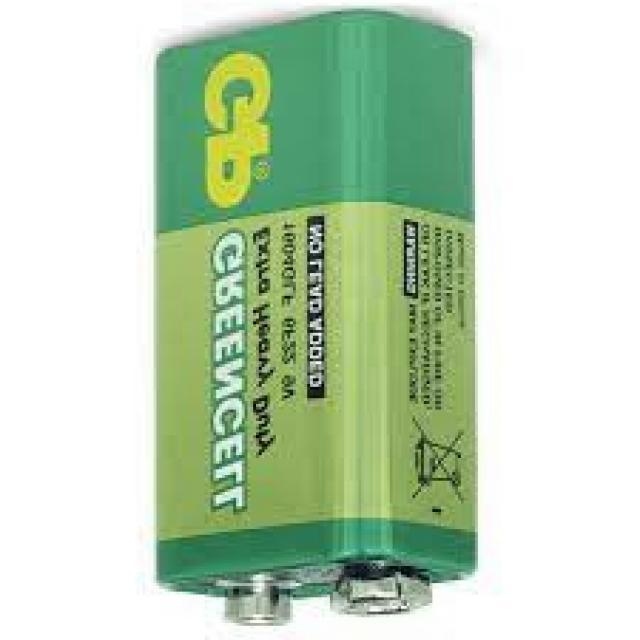battery: (153, 11, 478, 627)
